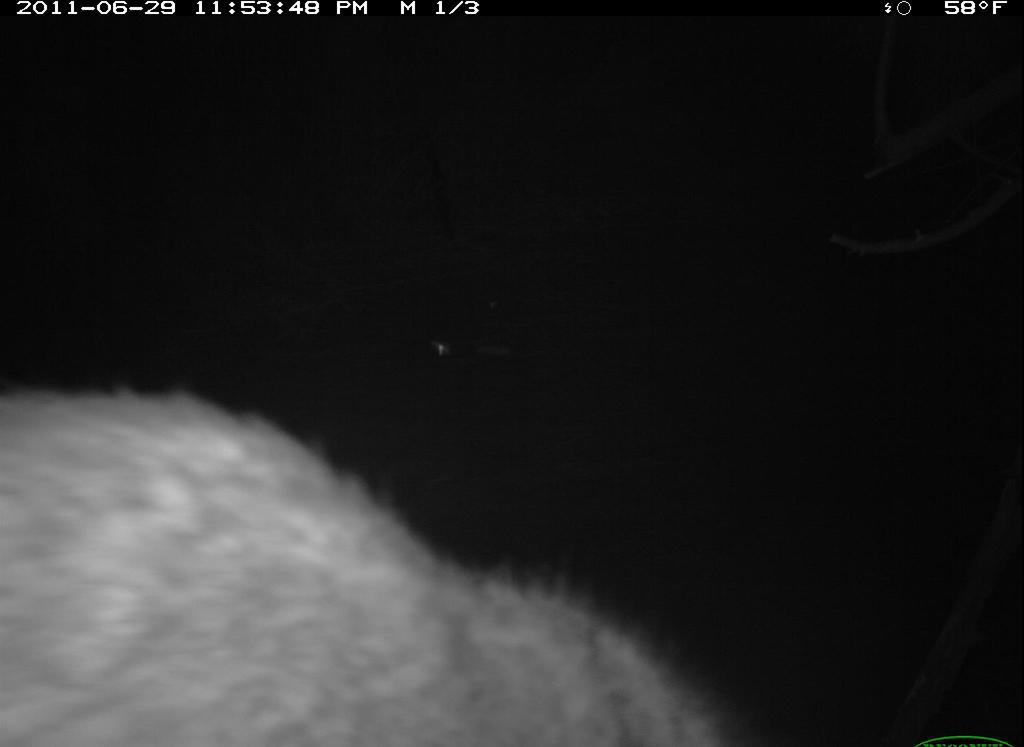raccoon: (2, 367, 761, 744)
